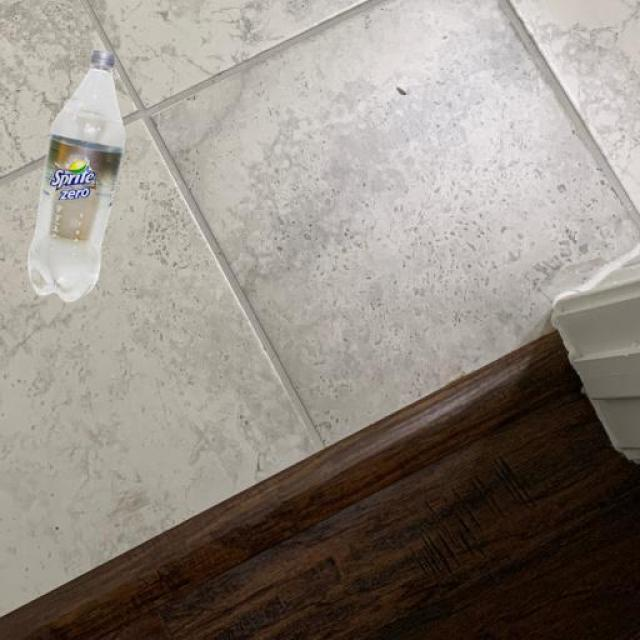bottle: (28, 29, 123, 316)
